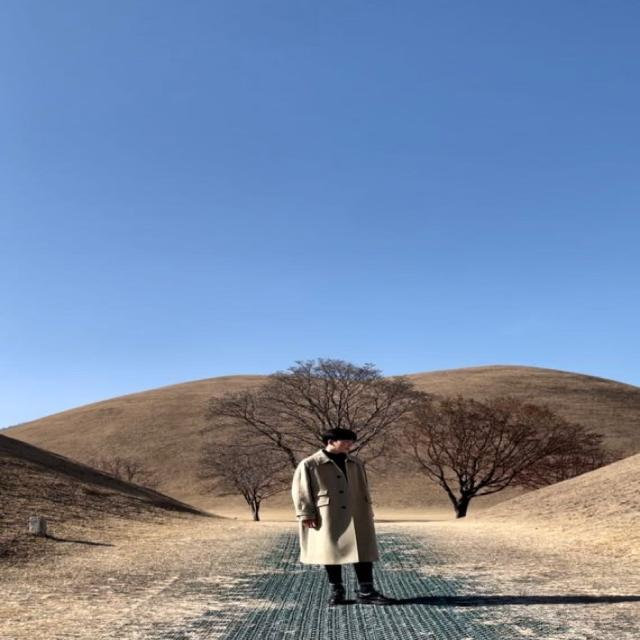coat: (289, 450, 380, 566)
